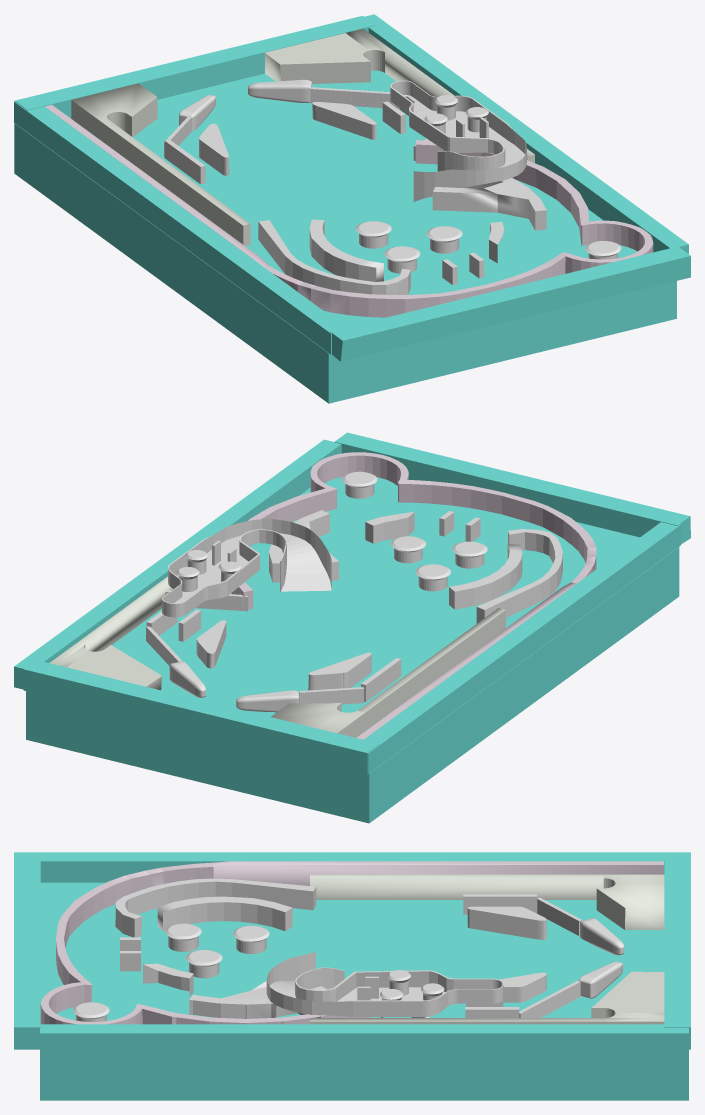
Rendered from bord.fbx.
3 views of the same model, one above another, from view 1: azimuth 30°, elevation 25°; view 2: azimuth 150°, elevation 25°; view 3: azimuth 270°, elevation 25° (orthographic). The views are drawn at different scales.
Visible parts, largest first — view 1: Cube.001, Cube.005, Cube.003, Cube.008, 円柱.007, Cube.004, Cube.002, Cube.010, Cube.006, 円柱.002, 円柱, 円柱.003 (+9 smaller); view 2: Cube.001, Cube.004, Cube.003, Cube.008, Cube.005, 円柱.007, Cube.002, Cube.010, Cube.006, 円柱, 円柱.003, 立方体.002_立方体.003 (+12 smaller); view 3: Cube.001, Cube.002, Cube.008, Cube.010, 円柱.007, Cube.003, Cube.005, Cube.006, Cube.004, 円柱, 円柱.003, 円柱.002 (+15 smaller).
Boxes of the visible parts, left/top/right/bottom form: Cube.001: left=14, top=70, right=676, bottom=403; Cube.005: left=330, top=246, right=690, bottom=361; Cube.003: left=14, top=101, right=345, bottom=354; Cube.008: left=45, top=105, right=653, bottom=317; 円柱.007: left=390, top=80, right=526, bottom=201; Cube.004: left=15, top=15, right=375, bottom=118; Cube.002: left=364, top=14, right=688, bottom=253; Cube.010: left=71, top=83, right=250, bottom=245; Cube.006: left=264, top=29, right=534, bottom=162; 円柱.002: left=432, top=178, right=546, bottom=230; 円柱: left=258, top=220, right=410, bottom=294; 円柱.003: left=309, top=219, right=383, bottom=281; Cube.001: left=26, top=477, right=679, bottom=823; Cube.004: left=23, top=660, right=379, bottom=774; Cube.003: left=364, top=522, right=680, bottom=774; Cube.008: left=231, top=452, right=596, bottom=739; Cube.005: left=334, top=432, right=690, bottom=544; 円柱.007: left=162, top=519, right=331, bottom=617; Cube.002: left=14, top=439, right=341, bottom=689; Cube.010: left=271, top=608, right=505, bottom=737; Cube.006: left=49, top=576, right=173, bottom=690; 円柱: left=476, top=529, right=562, bottom=623; 円柱.003: left=449, top=544, right=522, bottom=609; 立方体.002_立方体.003: left=308, top=652, right=371, bottom=690; Cube.001: left=40, top=882, right=688, bottom=1100; Cube.002: left=40, top=1024, right=688, bottom=1054; Cube.008: left=40, top=861, right=663, bottom=1024; Cube.010: left=310, top=874, right=664, bottom=929; 円柱.007: left=266, top=952, right=503, bottom=1016; Cube.003: left=40, top=852, right=664, bottom=882; Cube.005: left=14, top=852, right=40, bottom=1049; Cube.006: left=310, top=971, right=664, bottom=1024; Cube.004: left=664, top=852, right=690, bottom=1049; 円柱: left=115, top=878, right=316, bottom=937; 円柱.003: left=157, top=896, right=292, bottom=931; 円柱.002: left=189, top=981, right=326, bottom=1018.
Bounding box in the file's own units: 1497 × 368 × 2361.
